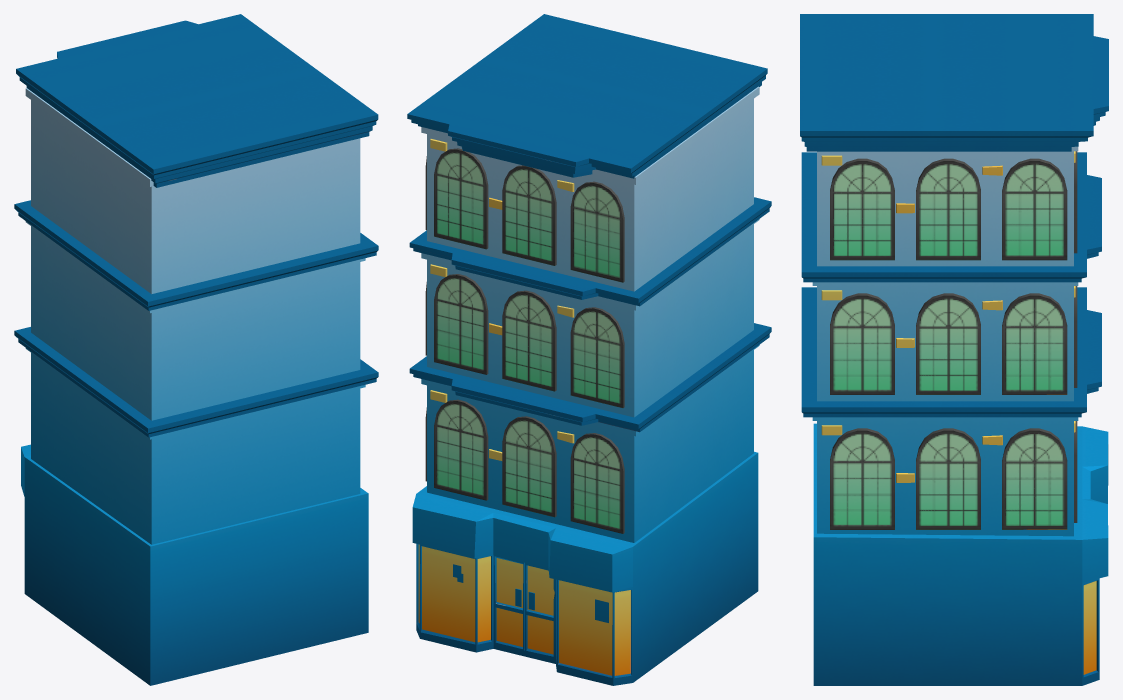
File: BLD1210008.fbx
3 views of the same model, side by side, from view 1: azimuth 30°, elevation 25°; view 2: azimuth 150°, elevation 25°; view 3: azimuth 270°, elevation 25° (orthographic). The views are drawn at different scales.
Parts seen in each view (by area): view 1: smBLD1210008; view 2: smBLD1210008; view 3: smBLD1210008.
Boxes of the visible parts, x1,y1,x2,y2 form: smBLD1210008: (14, 14, 378, 685); smBLD1210008: (407, 14, 771, 685); smBLD1210008: (800, 14, 1108, 685).
Bounding box in the file's own units: 675 × 1461 × 734.
1 material, 1 textured.
